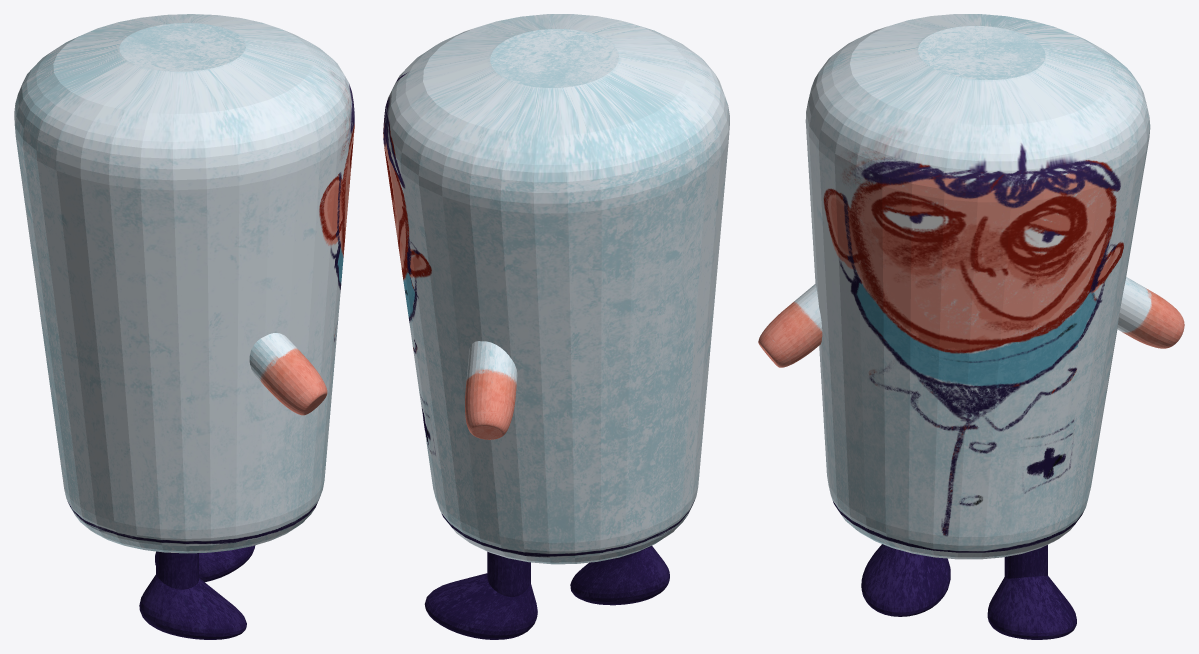
Rendered from doctorwalk.fbx.
The picture shows the model from 3 angles, left to right: view 1: azimuth 30°, elevation 25°; view 2: azimuth 150°, elevation 25°; view 3: azimuth 270°, elevation 25°; orthographic projection.
Visible parts, largest first — view 1: body, 锥体, arm1, leg2.001, 锥体.001; view 2: body, 锥体.001, arm2, 锥体, leg2; view 3: body, 锥体, 锥体.001, arm1, arm2, leg2.
Boxes of the visible parts, x1,y1,x2,y2 form: body: (14,14,354,553); 锥体: (139,575,246,639); arm1: (249,333,327,415); leg2.001: (156,551,198,589); 锥体.001: (155,545,255,582); body: (383,14,729,564); 锥体.001: (424,573,537,639); arm2: (465,341,517,439); 锥体: (570,546,669,605); leg2: (487,551,530,596); body: (805,14,1150,559); 锥体: (861,544,950,616); 锥体.001: (987,575,1076,639); arm1: (758,284,822,367); arm2: (1117,277,1184,348); leg2: (1004,545,1047,578).
Size of the model in its own units: 241 by 432 by 298.
Materials: 4 (4 with a texture image).
